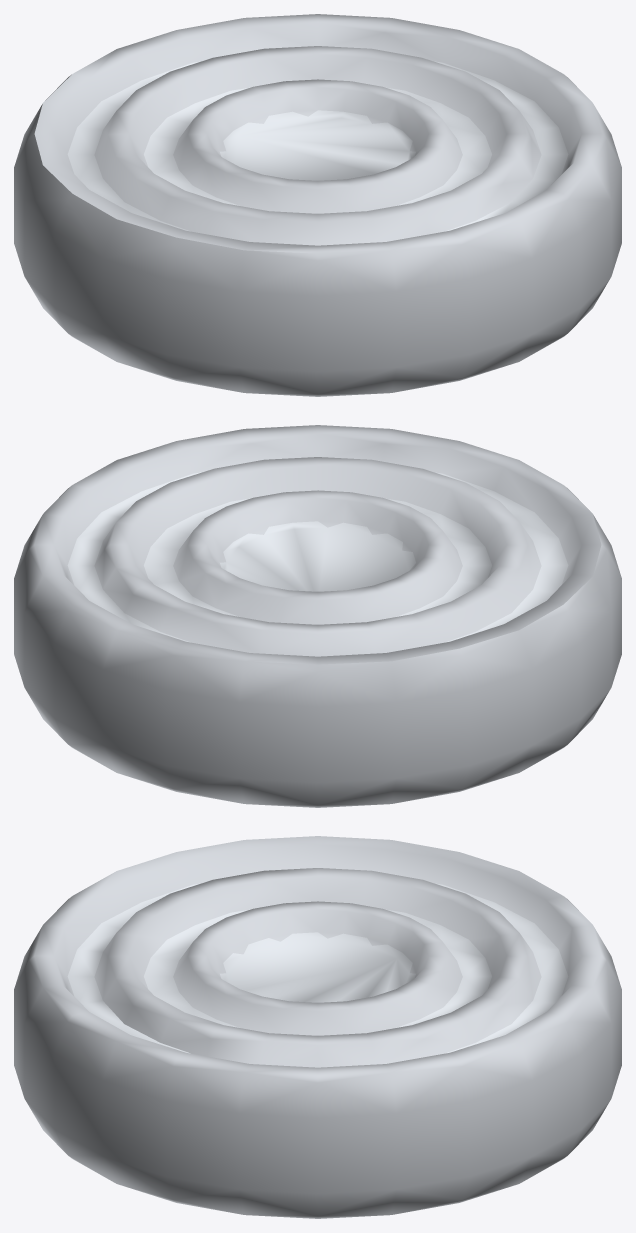
The model's file is damas_peca_branca_pacote.glb.
3 views of the same model, one above another, from view 1: azimuth 30°, elevation 25°; view 2: azimuth 150°, elevation 25°; view 3: azimuth 270°, elevation 25° (orthographic).
Visible parts, largest first — view 1: damas_peca_branca_pacote; view 2: damas_peca_branca_pacote; view 3: damas_peca_branca_pacote.
Part boxes in pixels (bbox=[...]): damas_peca_branca_pacote: bbox=[14, 14, 621, 396]; damas_peca_branca_pacote: bbox=[14, 425, 621, 807]; damas_peca_branca_pacote: bbox=[14, 836, 621, 1218].
Bounding box in the file's own units: 0.0388 × 0.0105 × 0.0388.
Materials: 1 (1 with a texture image).
